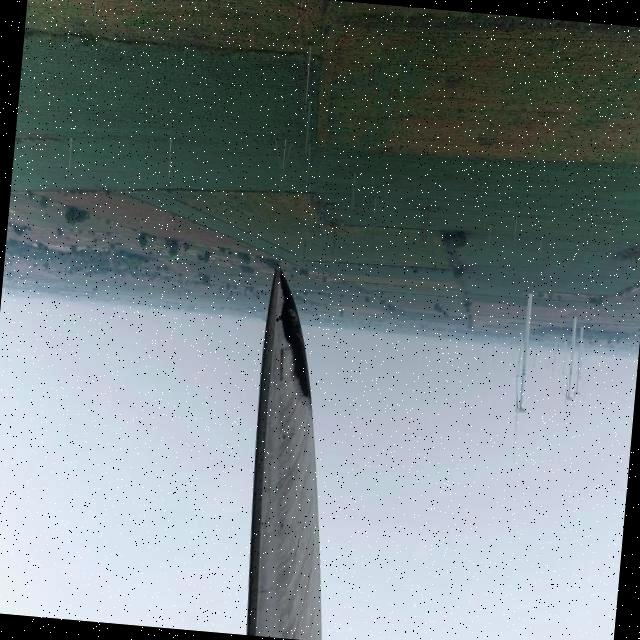Dirt: (248, 264, 324, 640)
Oil LEAKAGE: (275, 263, 315, 402)
Pin Hole: (270, 310, 284, 328), (276, 519, 288, 532), (280, 430, 291, 442)
